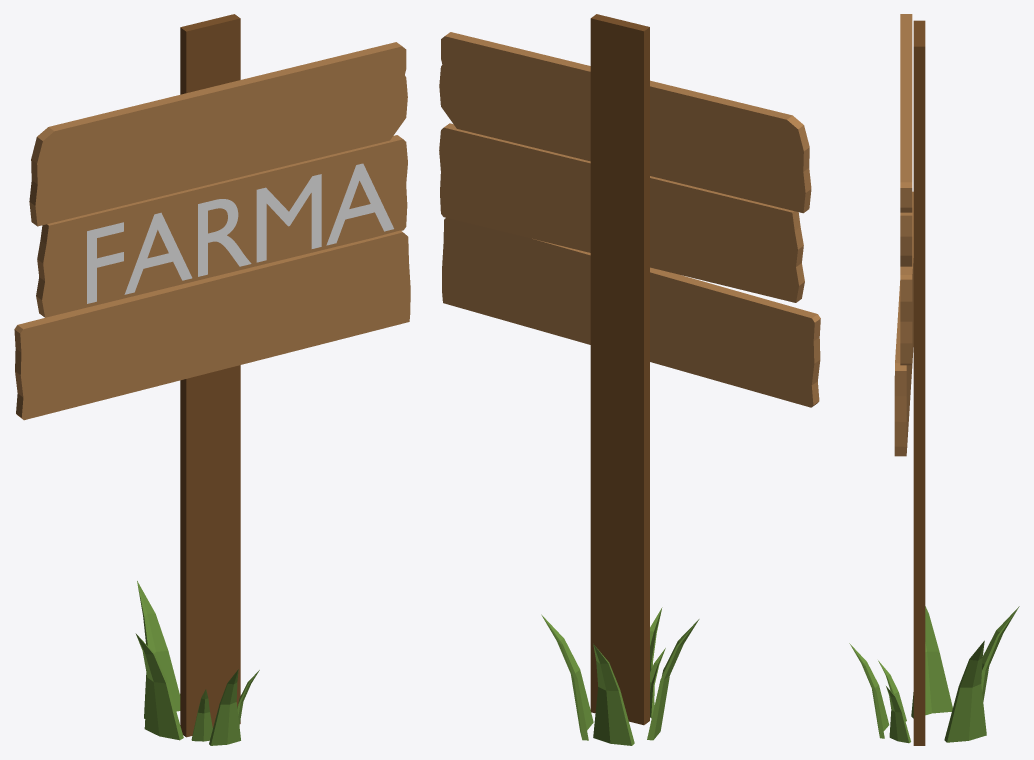
Rendered from sign_farma.fbx.
3 renders of one model, left to right at view 1: azimuth 30°, elevation 25°; view 2: azimuth 150°, elevation 25°; view 3: azimuth 270°, elevation 25°, orthographic.
Parts seen in each view (by area): view 1: Sign7, Text.001; view 2: Sign7; view 3: Sign7.
Part boxes in pixels (<box>): Sign7: <box>14,14,410,745</box>; Text.001: <box>87,163,393,303</box>; Sign7: <box>439,14,820,745</box>; Sign7: <box>849,14,1019,745</box>.
Bounding box in the file's own units: 113 × 198 × 43.85.
